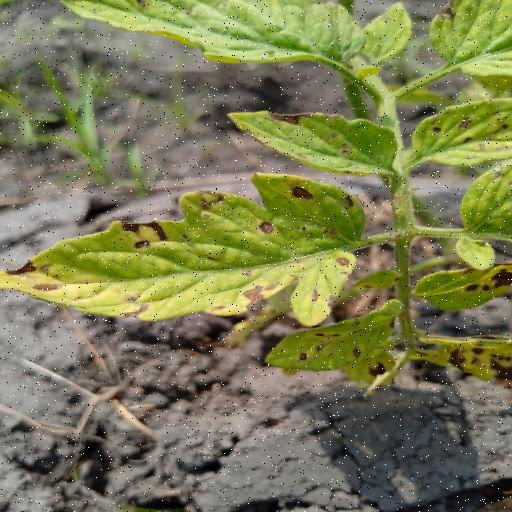Tomato_Brown_Spots: (0, 168, 379, 330), (44, 0, 390, 77), (222, 108, 401, 178), (265, 300, 410, 376), (411, 90, 512, 169), (429, 0, 512, 75)
